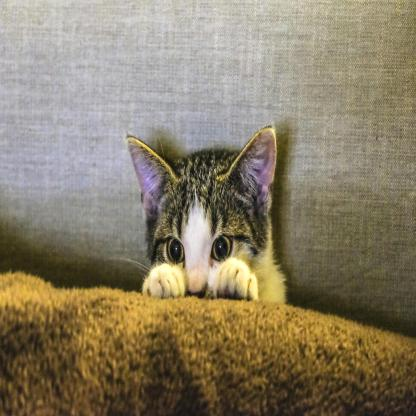cat: (121, 120, 292, 307)
